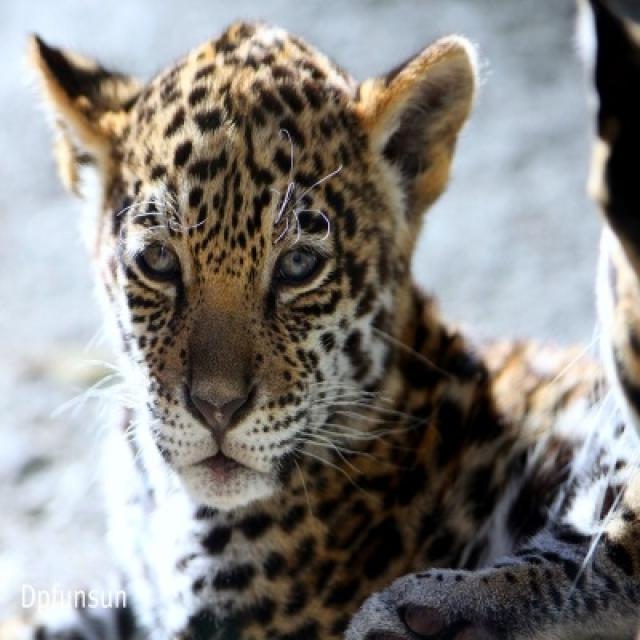Jaguar: (24, 19, 638, 638)
